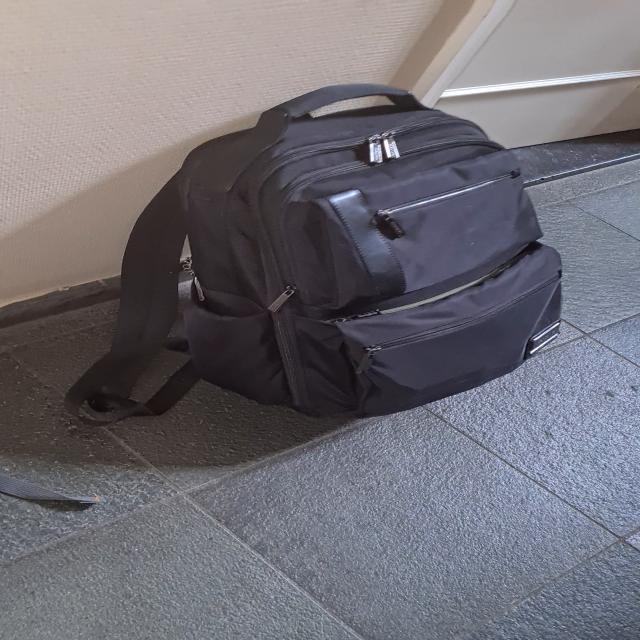backpack: (152, 84, 578, 414)
